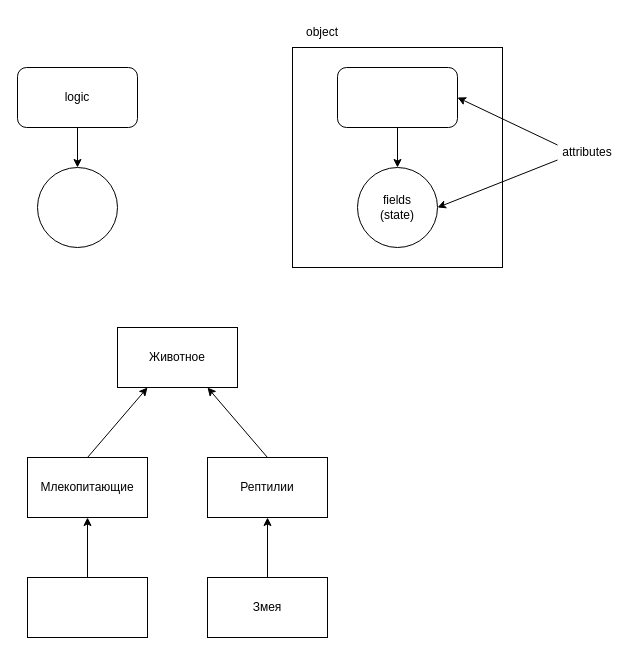
This 635x655 diagram has some shape labels left out. Here are the shapes that lost their labels. From the top down, the box of each, then its label:
(336, 66, 458, 128): methods (behaviour)
(36, 166, 118, 248): data
(26, 576, 148, 638): Кошка
